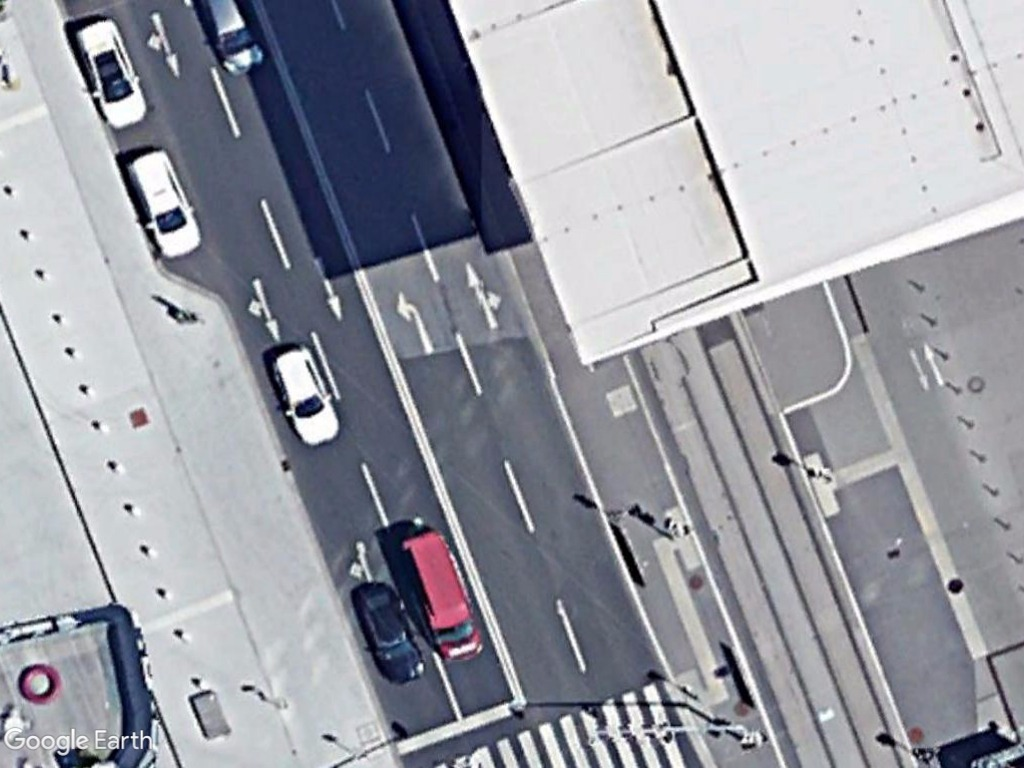car: (122, 138, 201, 265), (260, 338, 344, 451), (346, 576, 430, 686), (74, 18, 148, 134)
van: (395, 524, 489, 668)
